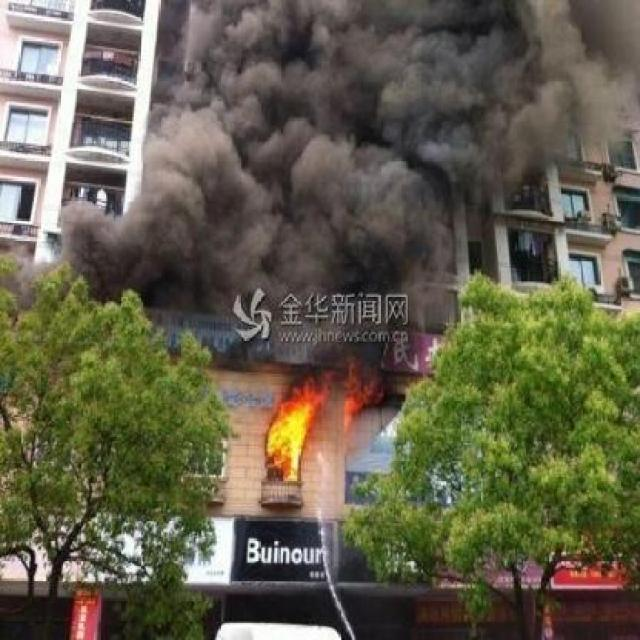Fire: (265, 373, 331, 481), (346, 356, 379, 430)
Smoke: (161, 6, 640, 147), (137, 150, 496, 290), (62, 205, 136, 292)
